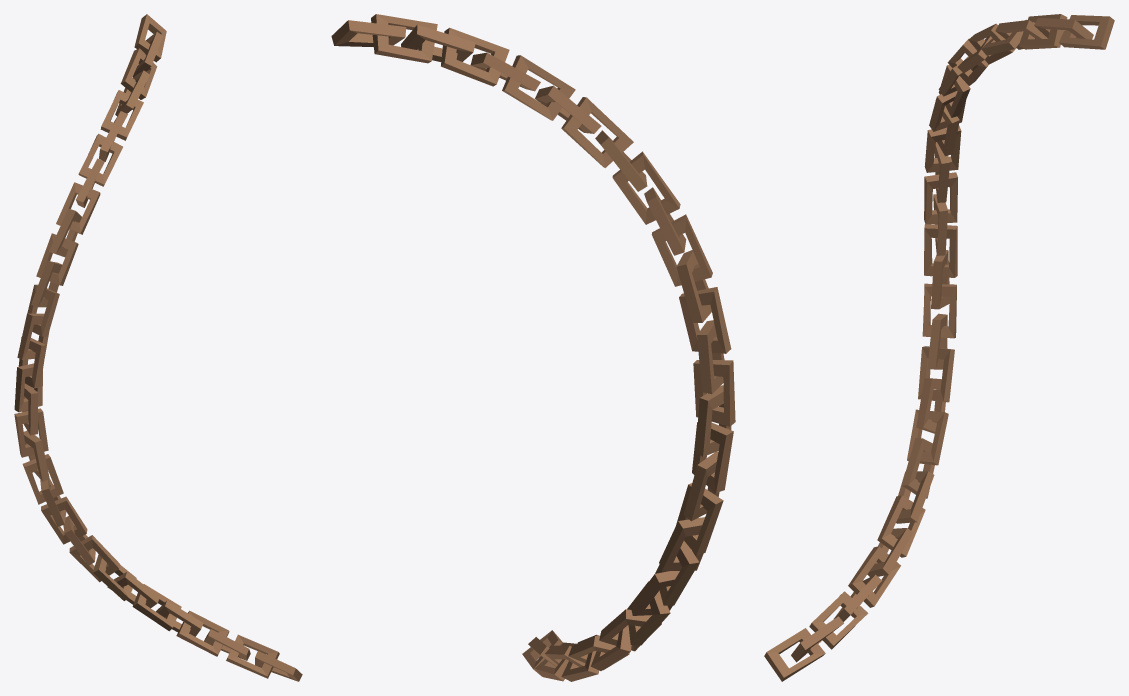
The model's file is Chain_01_Bend_01.fbx.
3 renders of one model, left to right at view 1: azimuth 30°, elevation 25°; view 2: azimuth 150°, elevation 25°; view 3: azimuth 270°, elevation 25°, orthographic. The views are drawn at different scales.
Visible parts, largest first — view 1: Chain_01_Bend_01; view 2: Chain_01_Bend_01; view 3: Chain_01_Bend_01.
Part boxes in pixels (left/top/right/bottom): Chain_01_Bend_01: left=14, top=14, right=302, bottom=681; Chain_01_Bend_01: left=331, top=14, right=735, bottom=681; Chain_01_Bend_01: left=764, top=14, right=1114, bottom=681.
Bounding box in the file's own units: 164 × 404 × 195.
